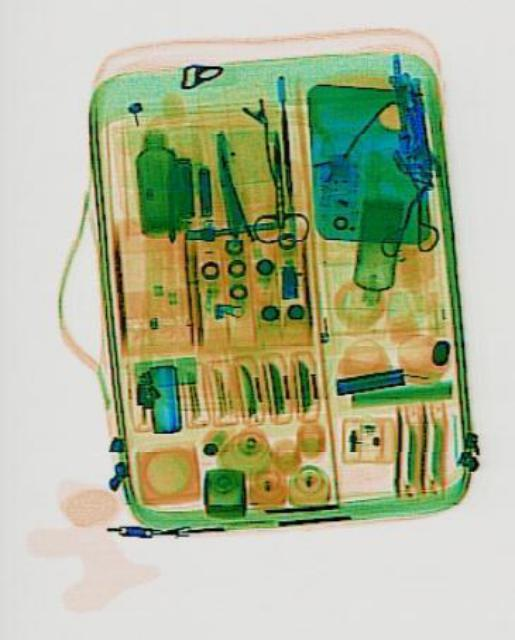Scissors: (243, 128, 308, 245)
